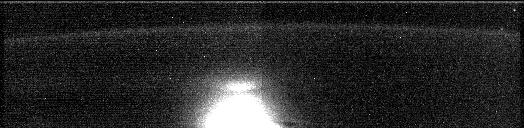negative: (223, 78, 255, 94)
